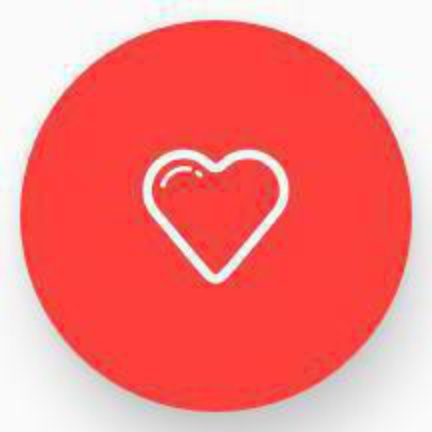ImgButton: (1, 1, 431, 431)
